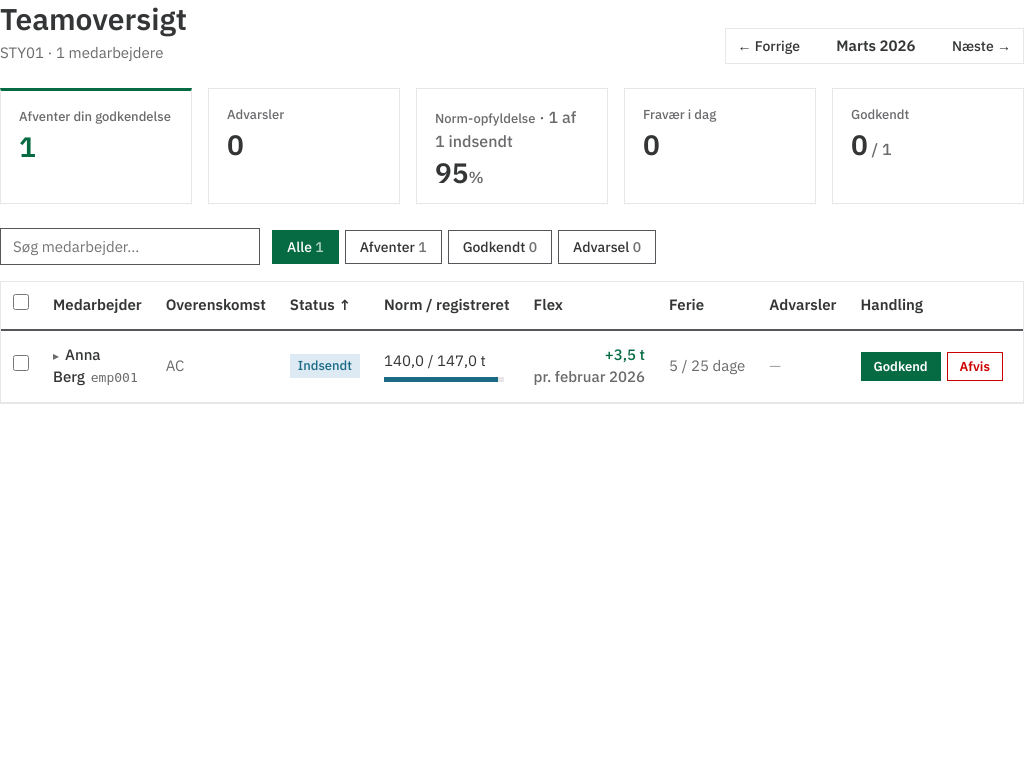
it: TeamRowDetail — lazy fetch (breakdown + compliance) › renders the breakdown bars + sum once loaded
This screenshot has width=1024, height=768.
Expected: the text "Anna Berg" is shown, [53,344,101,386]
Step 1. Click the button named "detaljer for Anna Berg" → (59, 355), box [53,348,65,362]
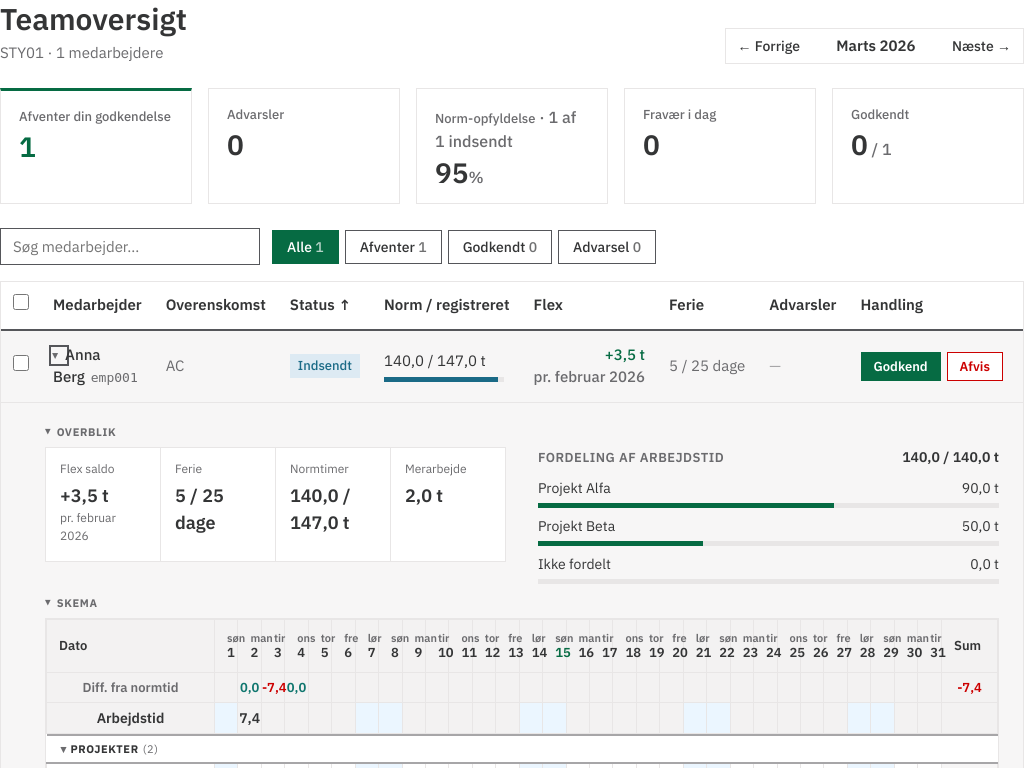
Expected: the text "Projekt Alfa" is shown, [538,478,611,498]
Expected: the text "Projekt Beta" is shown, [538,516,615,536]
Expected: the text "140,0 / 140,0 t" is shown, [902,446,999,468]
